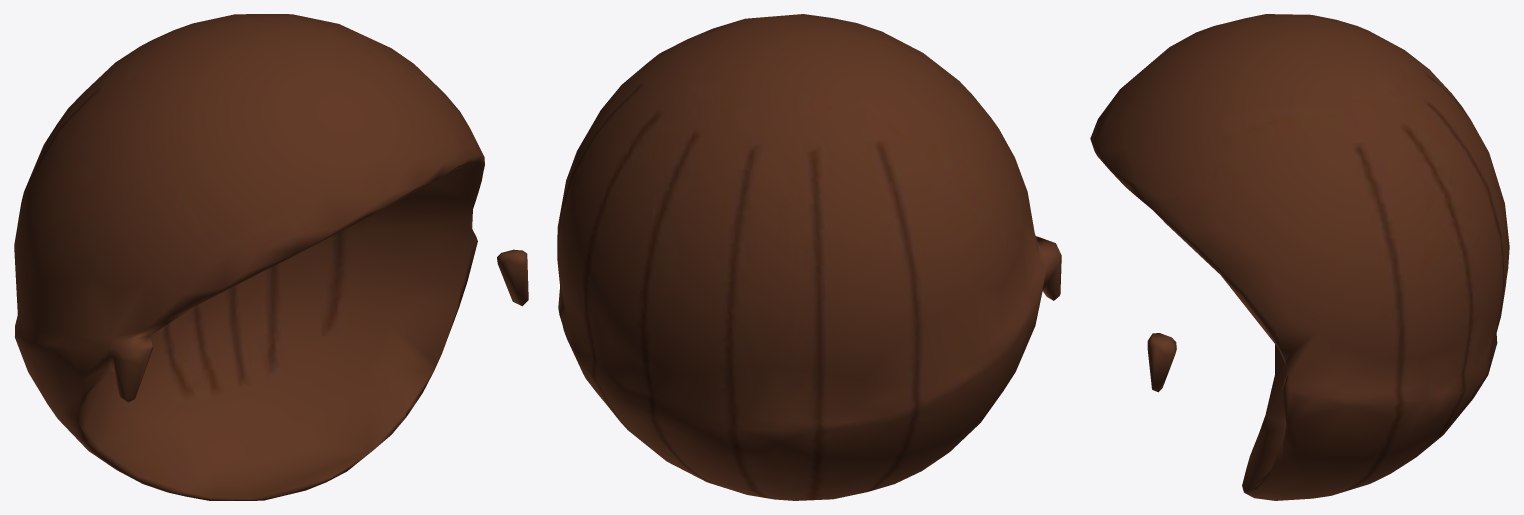
File: avatar-hair-short.capped.glb
The picture shows the model from 3 angles, left to right: view 1: azimuth 30°, elevation 25°; view 2: azimuth 150°, elevation 25°; view 3: azimuth 270°, elevation 25°; orthographic projection. The views are drawn at different scales.
Visible parts, largest first — view 1: hair; view 2: hair; view 3: hair.
Boxes of the visible parts, x1,y1,x2,y2 form: hair: [14, 14, 528, 500]; hair: [557, 14, 1061, 500]; hair: [1090, 14, 1509, 500].
Bounding box in the file's own units: 0.4271 × 0.4208 × 0.3633.
Materials: 1 (1 with a texture image).
